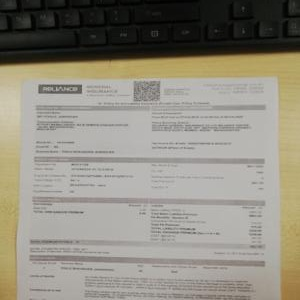image: (34, 83, 84, 96)
table: (33, 109, 266, 157), (31, 200, 267, 245), (34, 154, 266, 197)
text: (29, 239, 111, 255), (200, 80, 268, 96), (84, 83, 131, 98)
